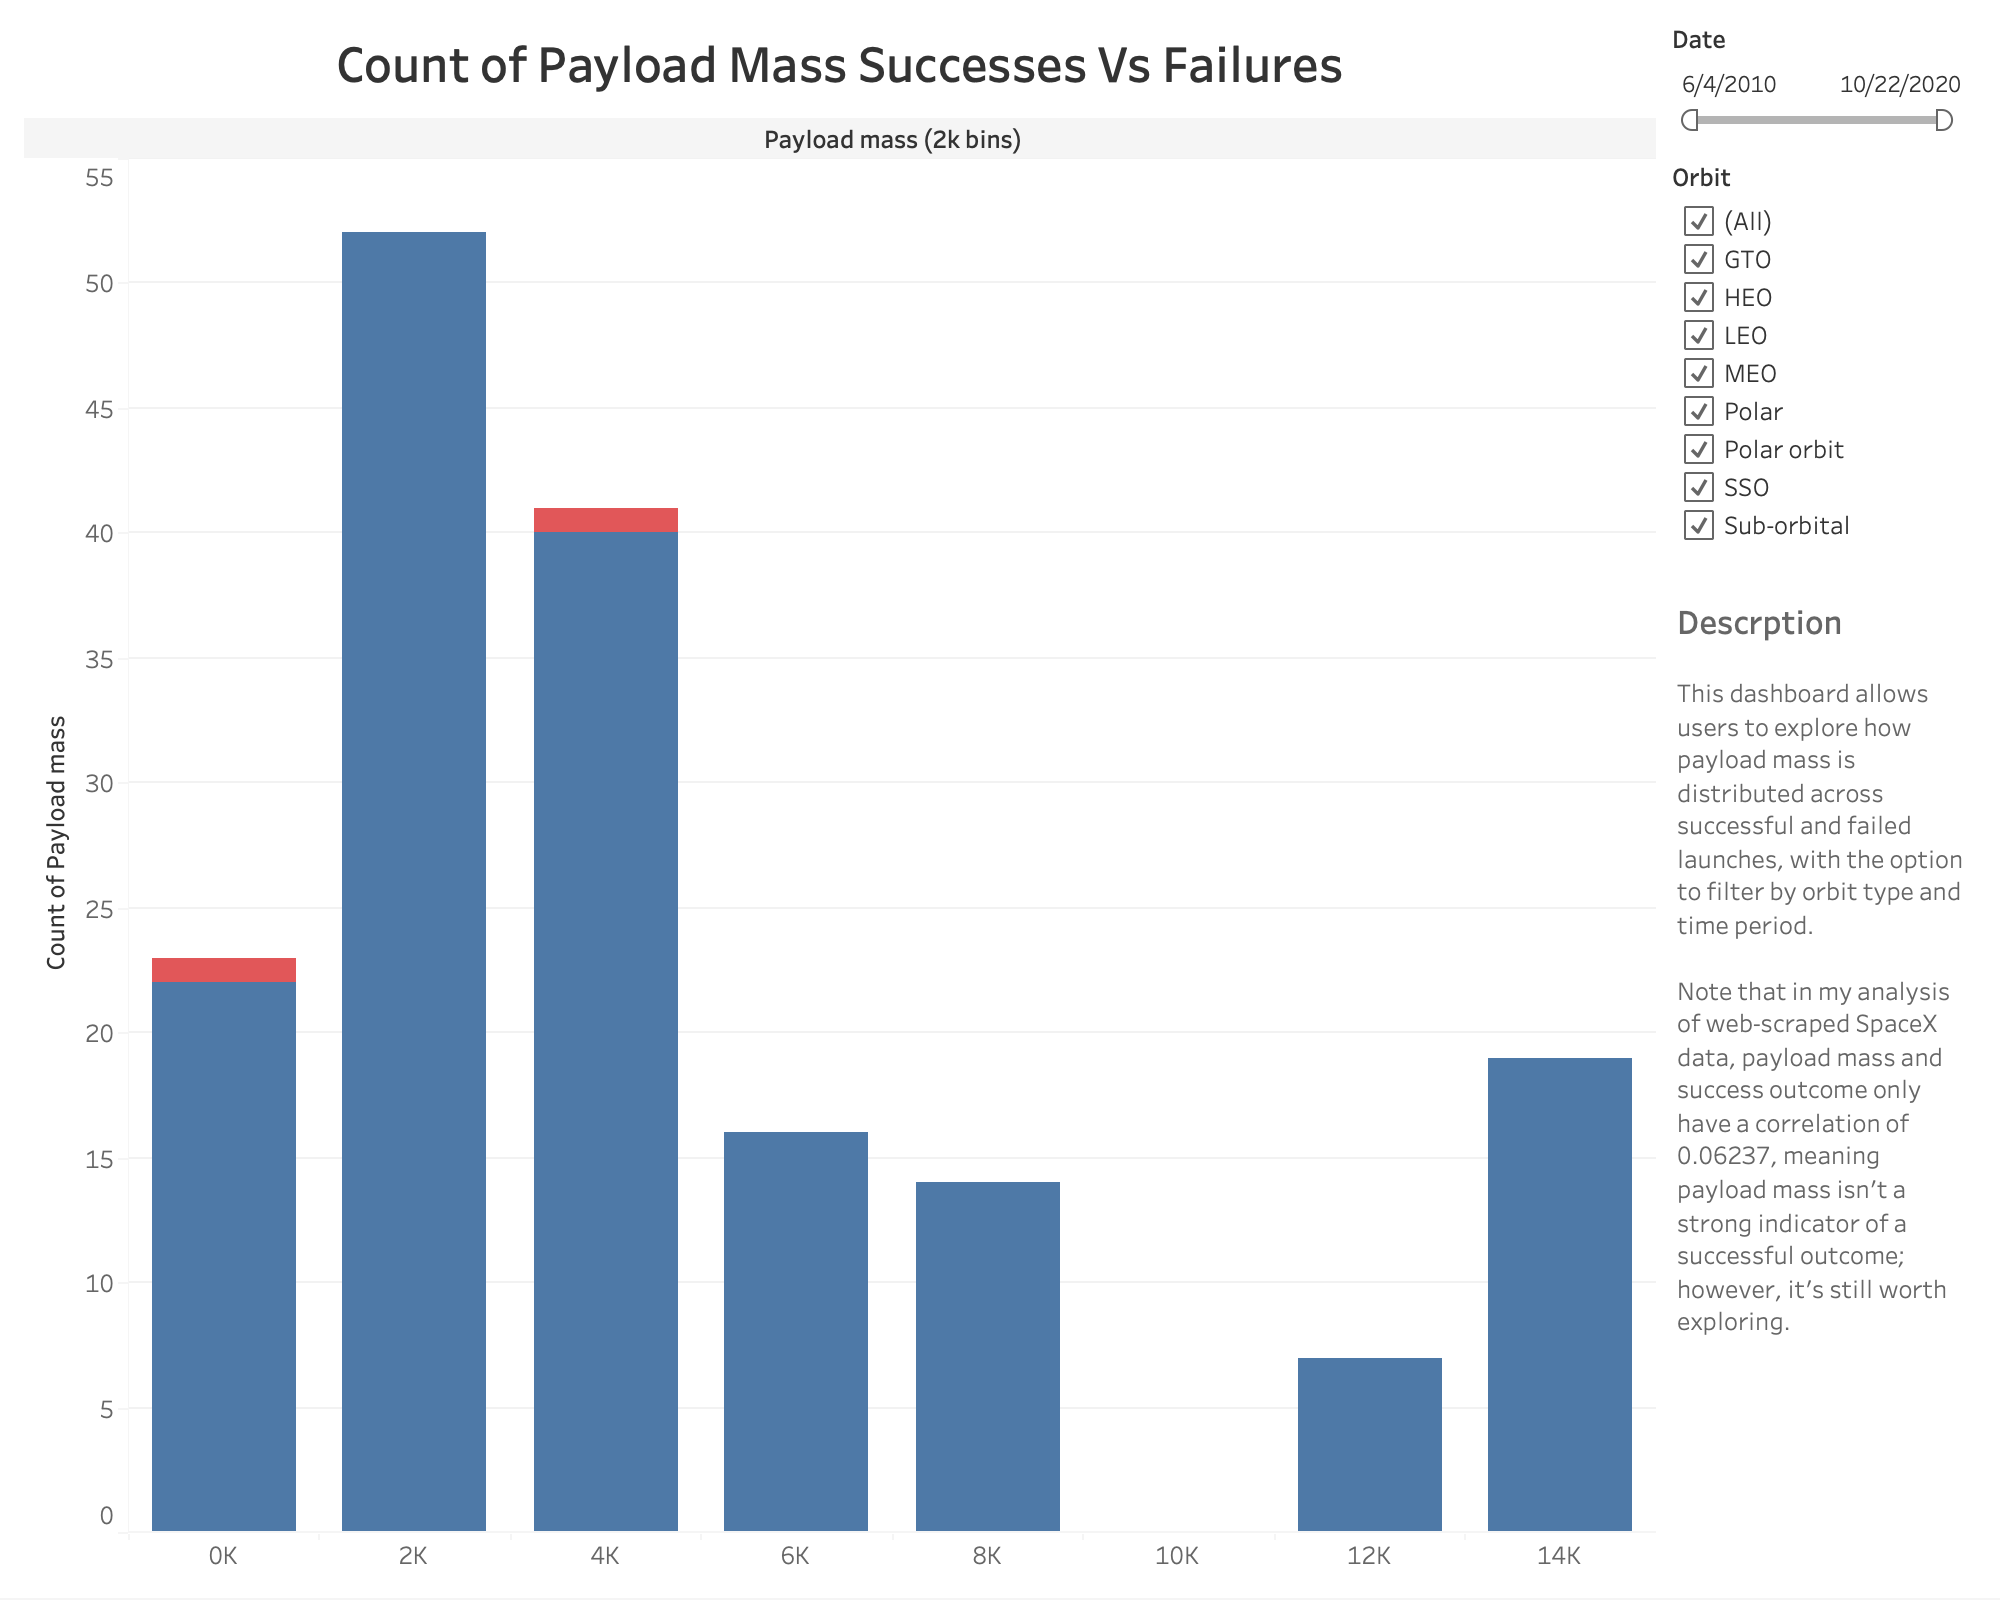

What the dashboard file says about the page in this screenshot:
{"tool":"tableau","page":{"name":"SpaceX Histogram Dashboard","canvas":[1000,800],"ordinal":1},"visuals":[{"type":"worksheet","title":"Sheet 2","mark":"Automatic","rows":["Payload mass"],"cols":["Payload mass (bin) 2"],"box":[8,8,824,784]},{"type":"legend","title":"Sheet 2","param":"[federated.1i19rf00il3kjd1gz88cp0l0uom9].[none:Launch outcome:nk]","box":[832,8,160,66]},{"type":"filter","title":"Sheet 2","param":"[federated.1i19rf00il3kjd1gz88cp0l0uom9].[none:Date:qk]","box":[832,74,160,69]},{"type":"filter","title":"Sheet 2","param":"[federated.1i19rf00il3kjd1gz88cp0l0uom9].[none:Orbit:nk]","box":[832,143,160,203]},{"type":"text","box":[832,346,160,404]}]}

Visuals, with their boxes in screenshot pixels (x1, y1, x2, y2), scaled from the page's 1000x800 canvas onto the 2000x1600 screenshot:
"Sheet 2" worksheet: <region>16, 16, 1664, 1584</region>
"Sheet 2" legend: <region>1664, 16, 1984, 148</region>
"Sheet 2" filter: <region>1664, 148, 1984, 286</region>
"Sheet 2" filter: <region>1664, 286, 1984, 692</region>
text: <region>1664, 692, 1984, 1500</region>
